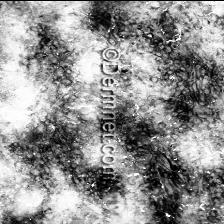Potentially Malignant Skin Tumors: (86, 176, 125, 208), (154, 12, 176, 46)
